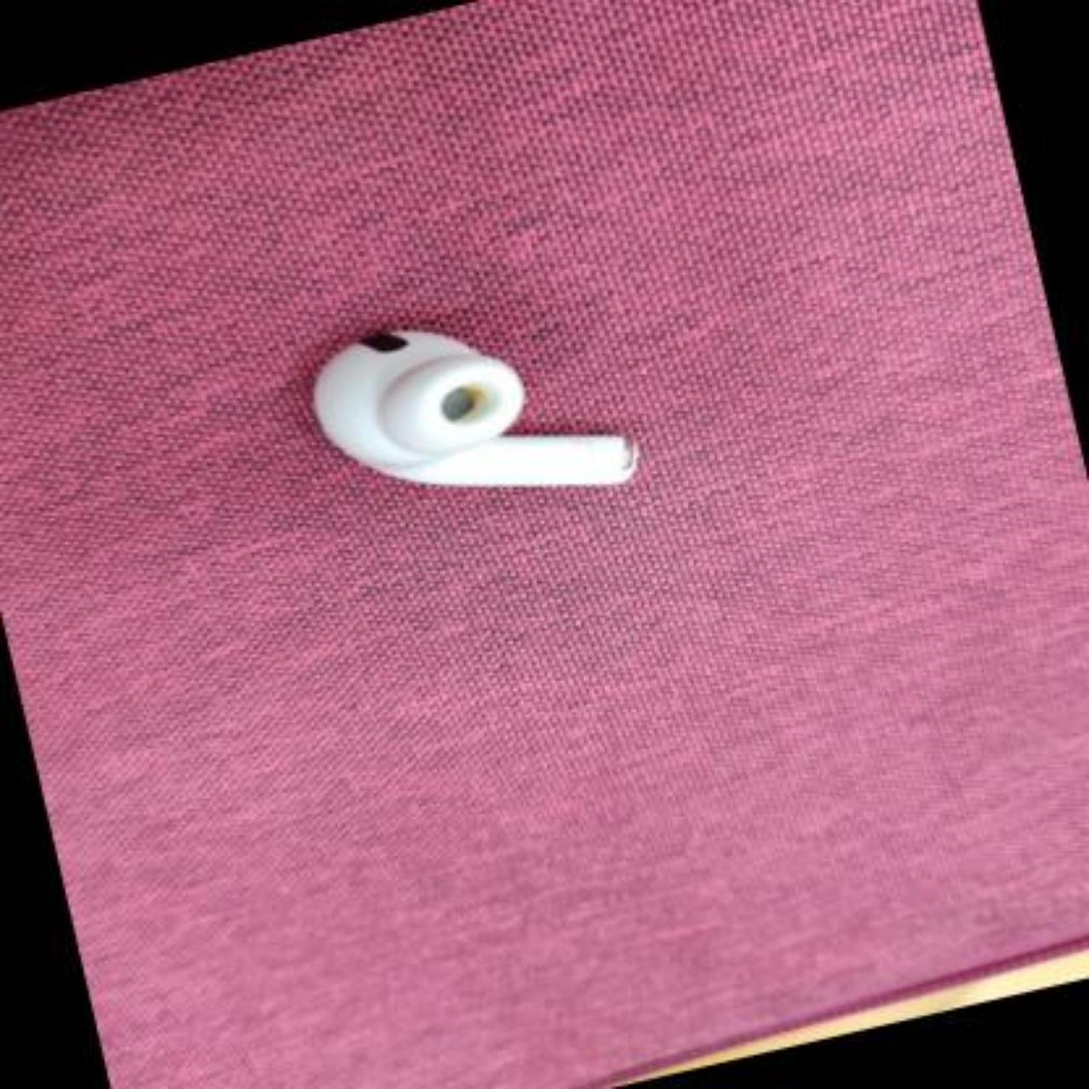Airpods_Units: (265, 244, 678, 578)
